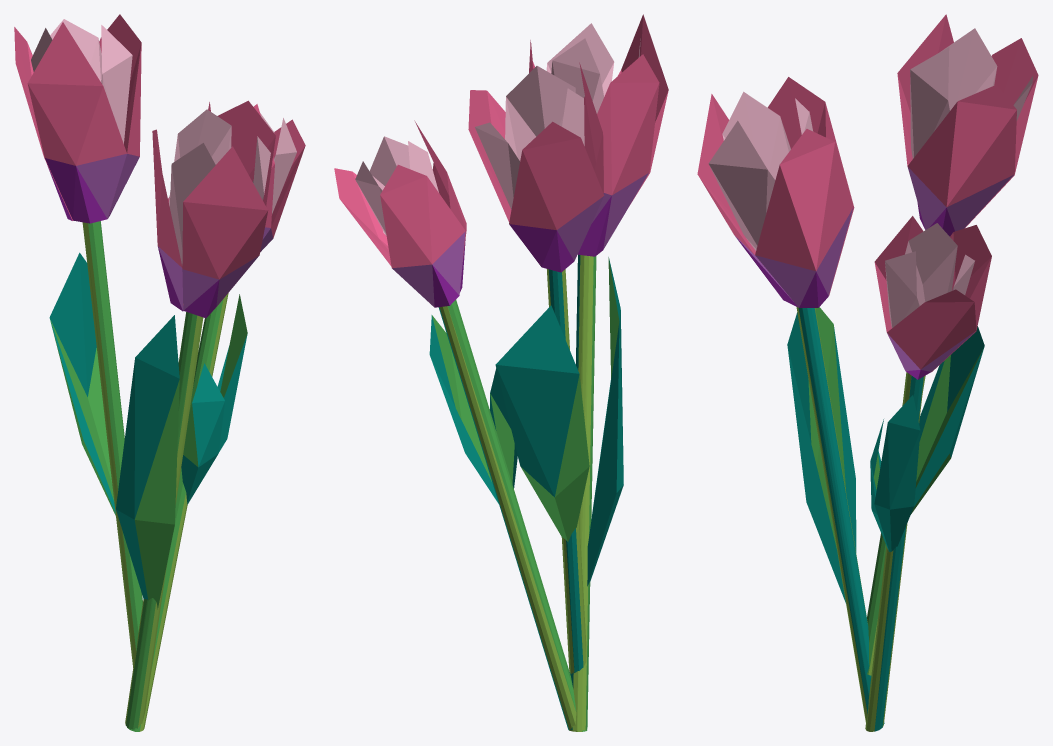
Rendered from tulip-normal.glb.
The picture shows the model from 3 angles, left to right: view 1: azimuth 30°, elevation 25°; view 2: azimuth 150°, elevation 25°; view 3: azimuth 270°, elevation 25°; orthographic projection. The views are drawn at different scales.
Parts seen in each view (by area): view 1: group472026721, group941805466, group1160013864, group1524081558, group1653023134, group605848671, group1418125784, group1741665748, group1199946381, group875356185; view 2: group472026721, group1199946381, group1524081558, group941805466, group1741665748, group605848671, group1160013864, group1653023134, group875356185, group1418125784; view 3: group941805466, group472026721, group1199946381, group1160013864, group605848671, group1524081558, group875356185, group1741665748, group1653023134, group1418125784.
Boxes of the visible parts, x1,y1,x2,y2 form: group472026721: [14, 14, 141, 223]; group941805466: [152, 100, 275, 318]; group1160013864: [116, 315, 179, 609]; group1524081558: [49, 252, 115, 515]; group1653023134: [82, 221, 142, 667]; group605848671: [125, 312, 203, 729]; group1418125784: [181, 363, 224, 504]; group1741665748: [126, 293, 228, 731]; group1199946381: [208, 102, 305, 251]; group875356185: [217, 294, 247, 451]; group472026721: [468, 62, 604, 272]; group1199946381: [334, 120, 466, 307]; group1524081558: [495, 305, 589, 541]; group941805466: [529, 14, 668, 256]; group1741665748: [438, 299, 587, 731]; group605848671: [569, 254, 596, 730]; group1160013864: [587, 257, 623, 586]; group1653023134: [547, 269, 586, 673]; group875356185: [429, 315, 498, 503]; group1418125784: [489, 368, 517, 488]; group941805466: [697, 77, 854, 307]; group472026721: [897, 14, 1038, 236]; group1199946381: [874, 216, 991, 379]; group1160013864: [787, 307, 856, 603]; group605848671: [796, 306, 884, 724]; group1524081558: [911, 326, 984, 513]; group875356185: [874, 395, 920, 551]; group1741665748: [865, 372, 924, 731]; group1653023134: [867, 375, 925, 675]; group1418125784: [870, 419, 889, 551].
Bounding box in the file's own units: 0.4953 × 1.24 × 0.5494.
